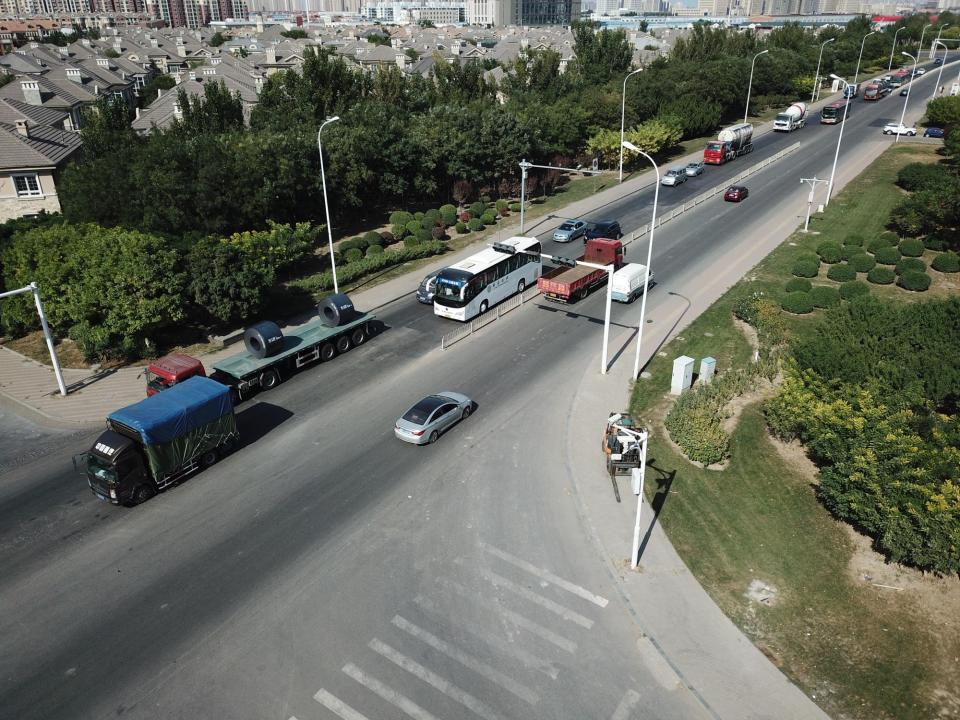bus: (426, 236, 542, 320), (820, 100, 852, 124), (890, 69, 910, 87)
car: (394, 392, 472, 445), (582, 220, 620, 246), (552, 219, 589, 242), (883, 123, 917, 136), (724, 185, 749, 202), (686, 161, 704, 176), (924, 128, 947, 138), (900, 89, 910, 95), (887, 84, 894, 92), (917, 68, 925, 74), (934, 58, 942, 64), (910, 70, 917, 76)
truck: (137, 293, 376, 406), (72, 374, 240, 506), (536, 237, 626, 302), (703, 123, 754, 165), (772, 102, 810, 132), (864, 80, 889, 100), (843, 82, 861, 98)
van: (606, 263, 655, 303), (416, 265, 452, 305), (661, 166, 686, 186), (871, 78, 883, 84), (885, 74, 892, 80)
